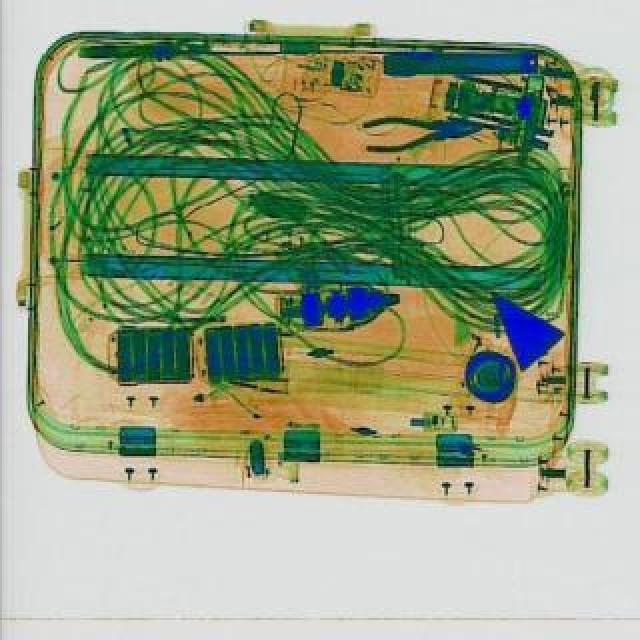wrench: (360, 112, 482, 160)
